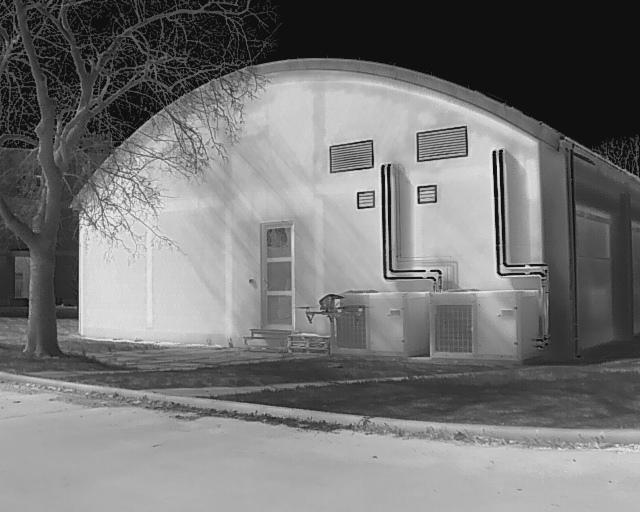drone: (292, 288, 368, 328)
